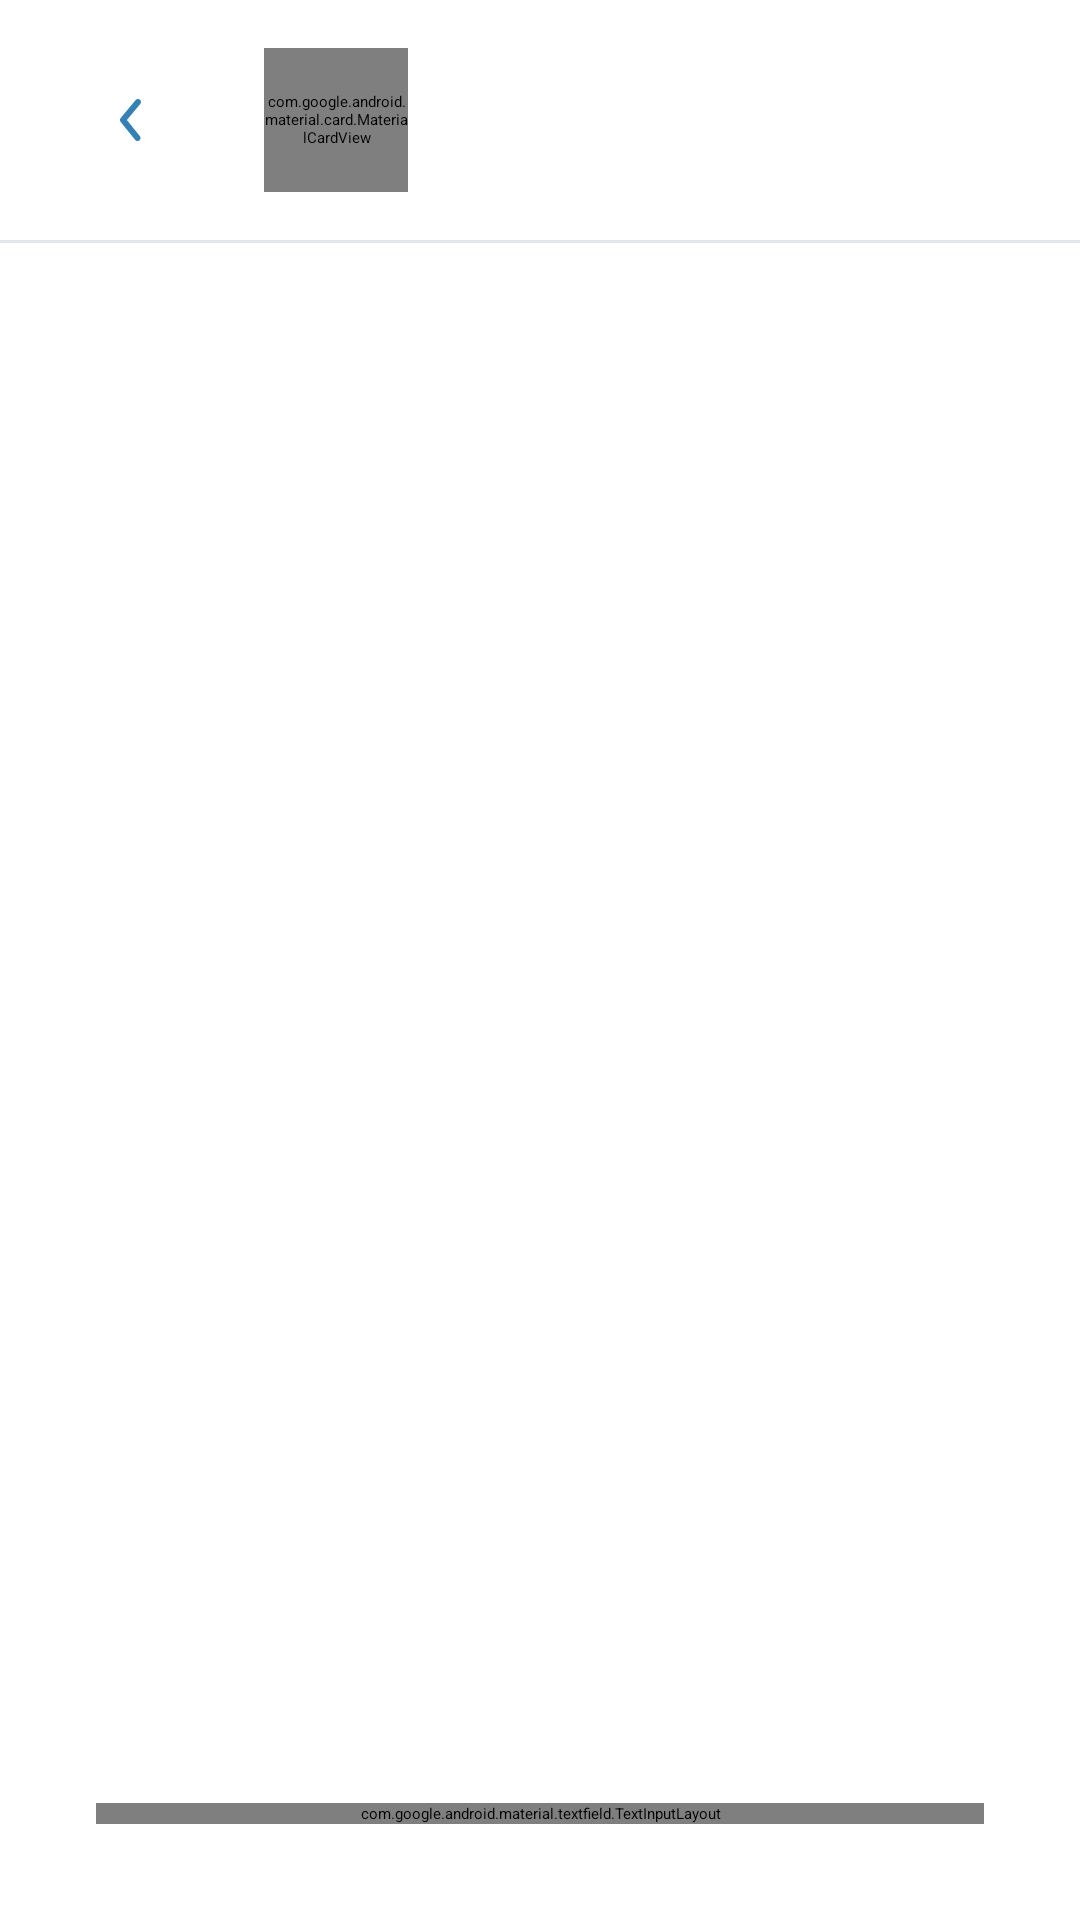

Where icons sit on this 1080×1920 app screen, as (x1, y1, x2, y2):
Back Button: (120, 99, 141, 141)
